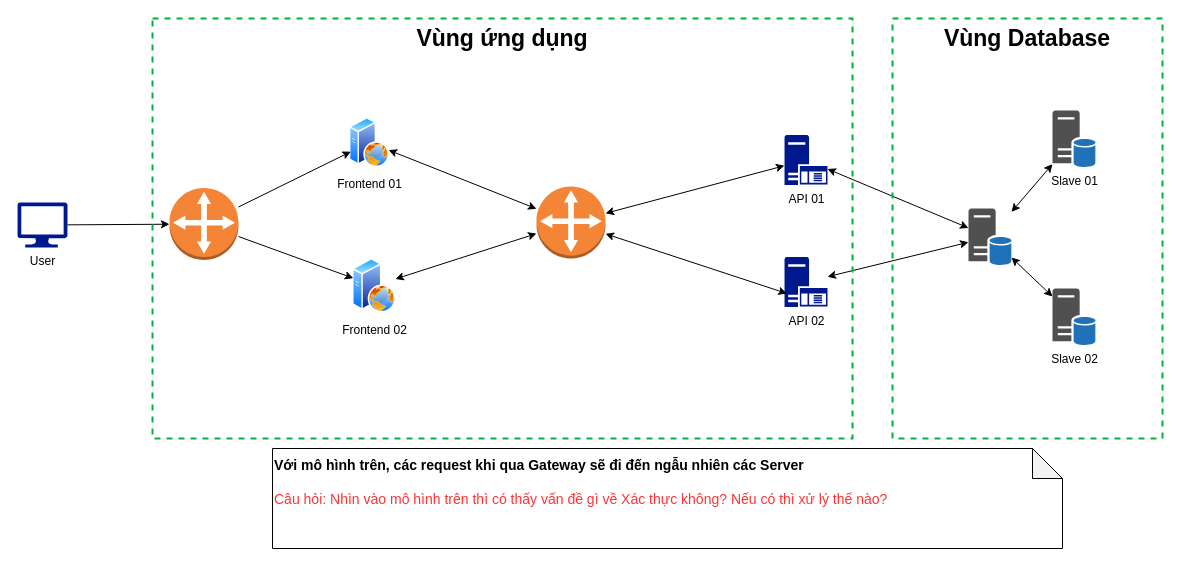
This 1180x566 diagram has some shape labels left out. Each missing label, with the centre of its shape:
"Gateway Api" goes at (x=571, y=222).
"Gateway Frontend" goes at (x=203, y=223).
"Master DB" goes at (x=989, y=236).
